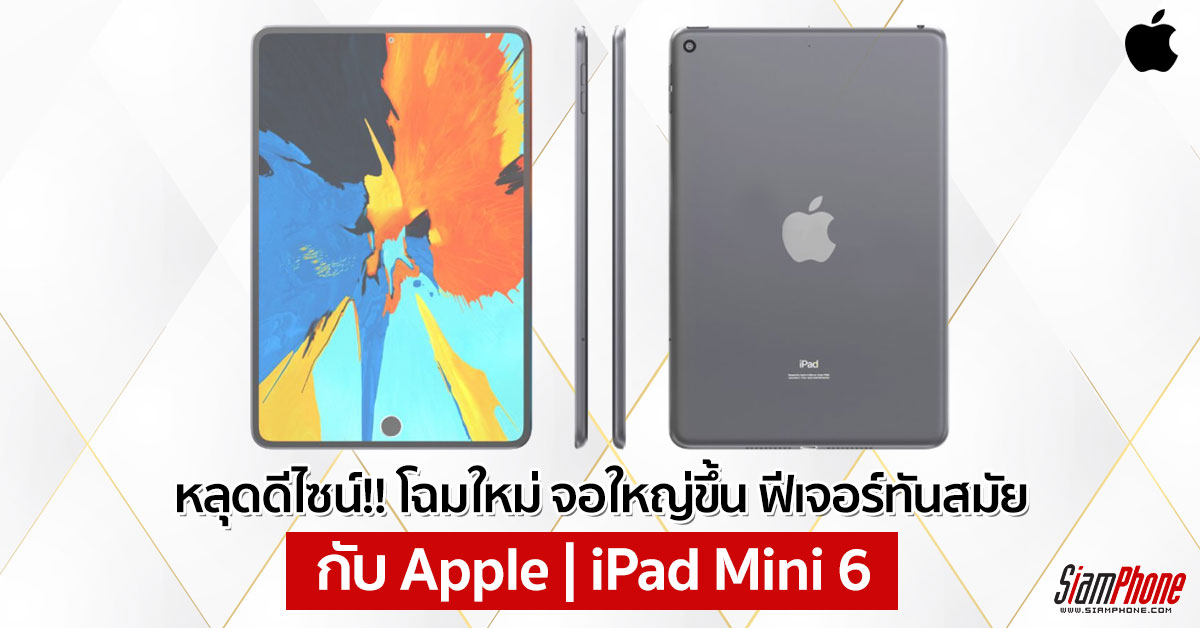phone: (244, 21, 539, 456), (662, 20, 957, 453)
